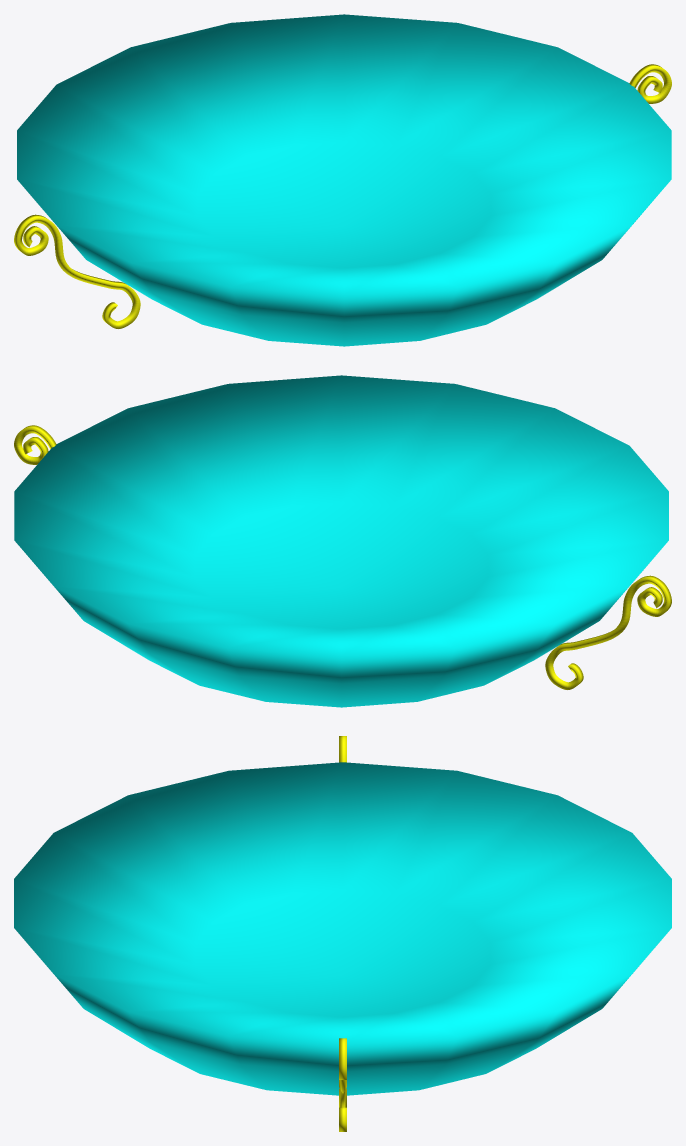
Rendered from MSH_Lampara.FBX.
The picture shows the model from 3 angles, top to bottom: view 1: azimuth 30°, elevation 25°; view 2: azimuth 150°, elevation 25°; view 3: azimuth 270°, elevation 25°; orthographic projection.
Visible parts, largest first — view 1: MSH_Fuego; view 2: MSH_Fuego; view 3: MSH_Fuego.
Part boxes in pixels (x1=…): MSH_Fuego: x1=14, y1=14, x2=671, y2=346; MSH_Fuego: x1=14, y1=375, x2=671, y2=707; MSH_Fuego: x1=14, y1=736, x2=671, y2=1131.
Bounding box in the file's own units: 7.44 × 1.46 × 6.45.
